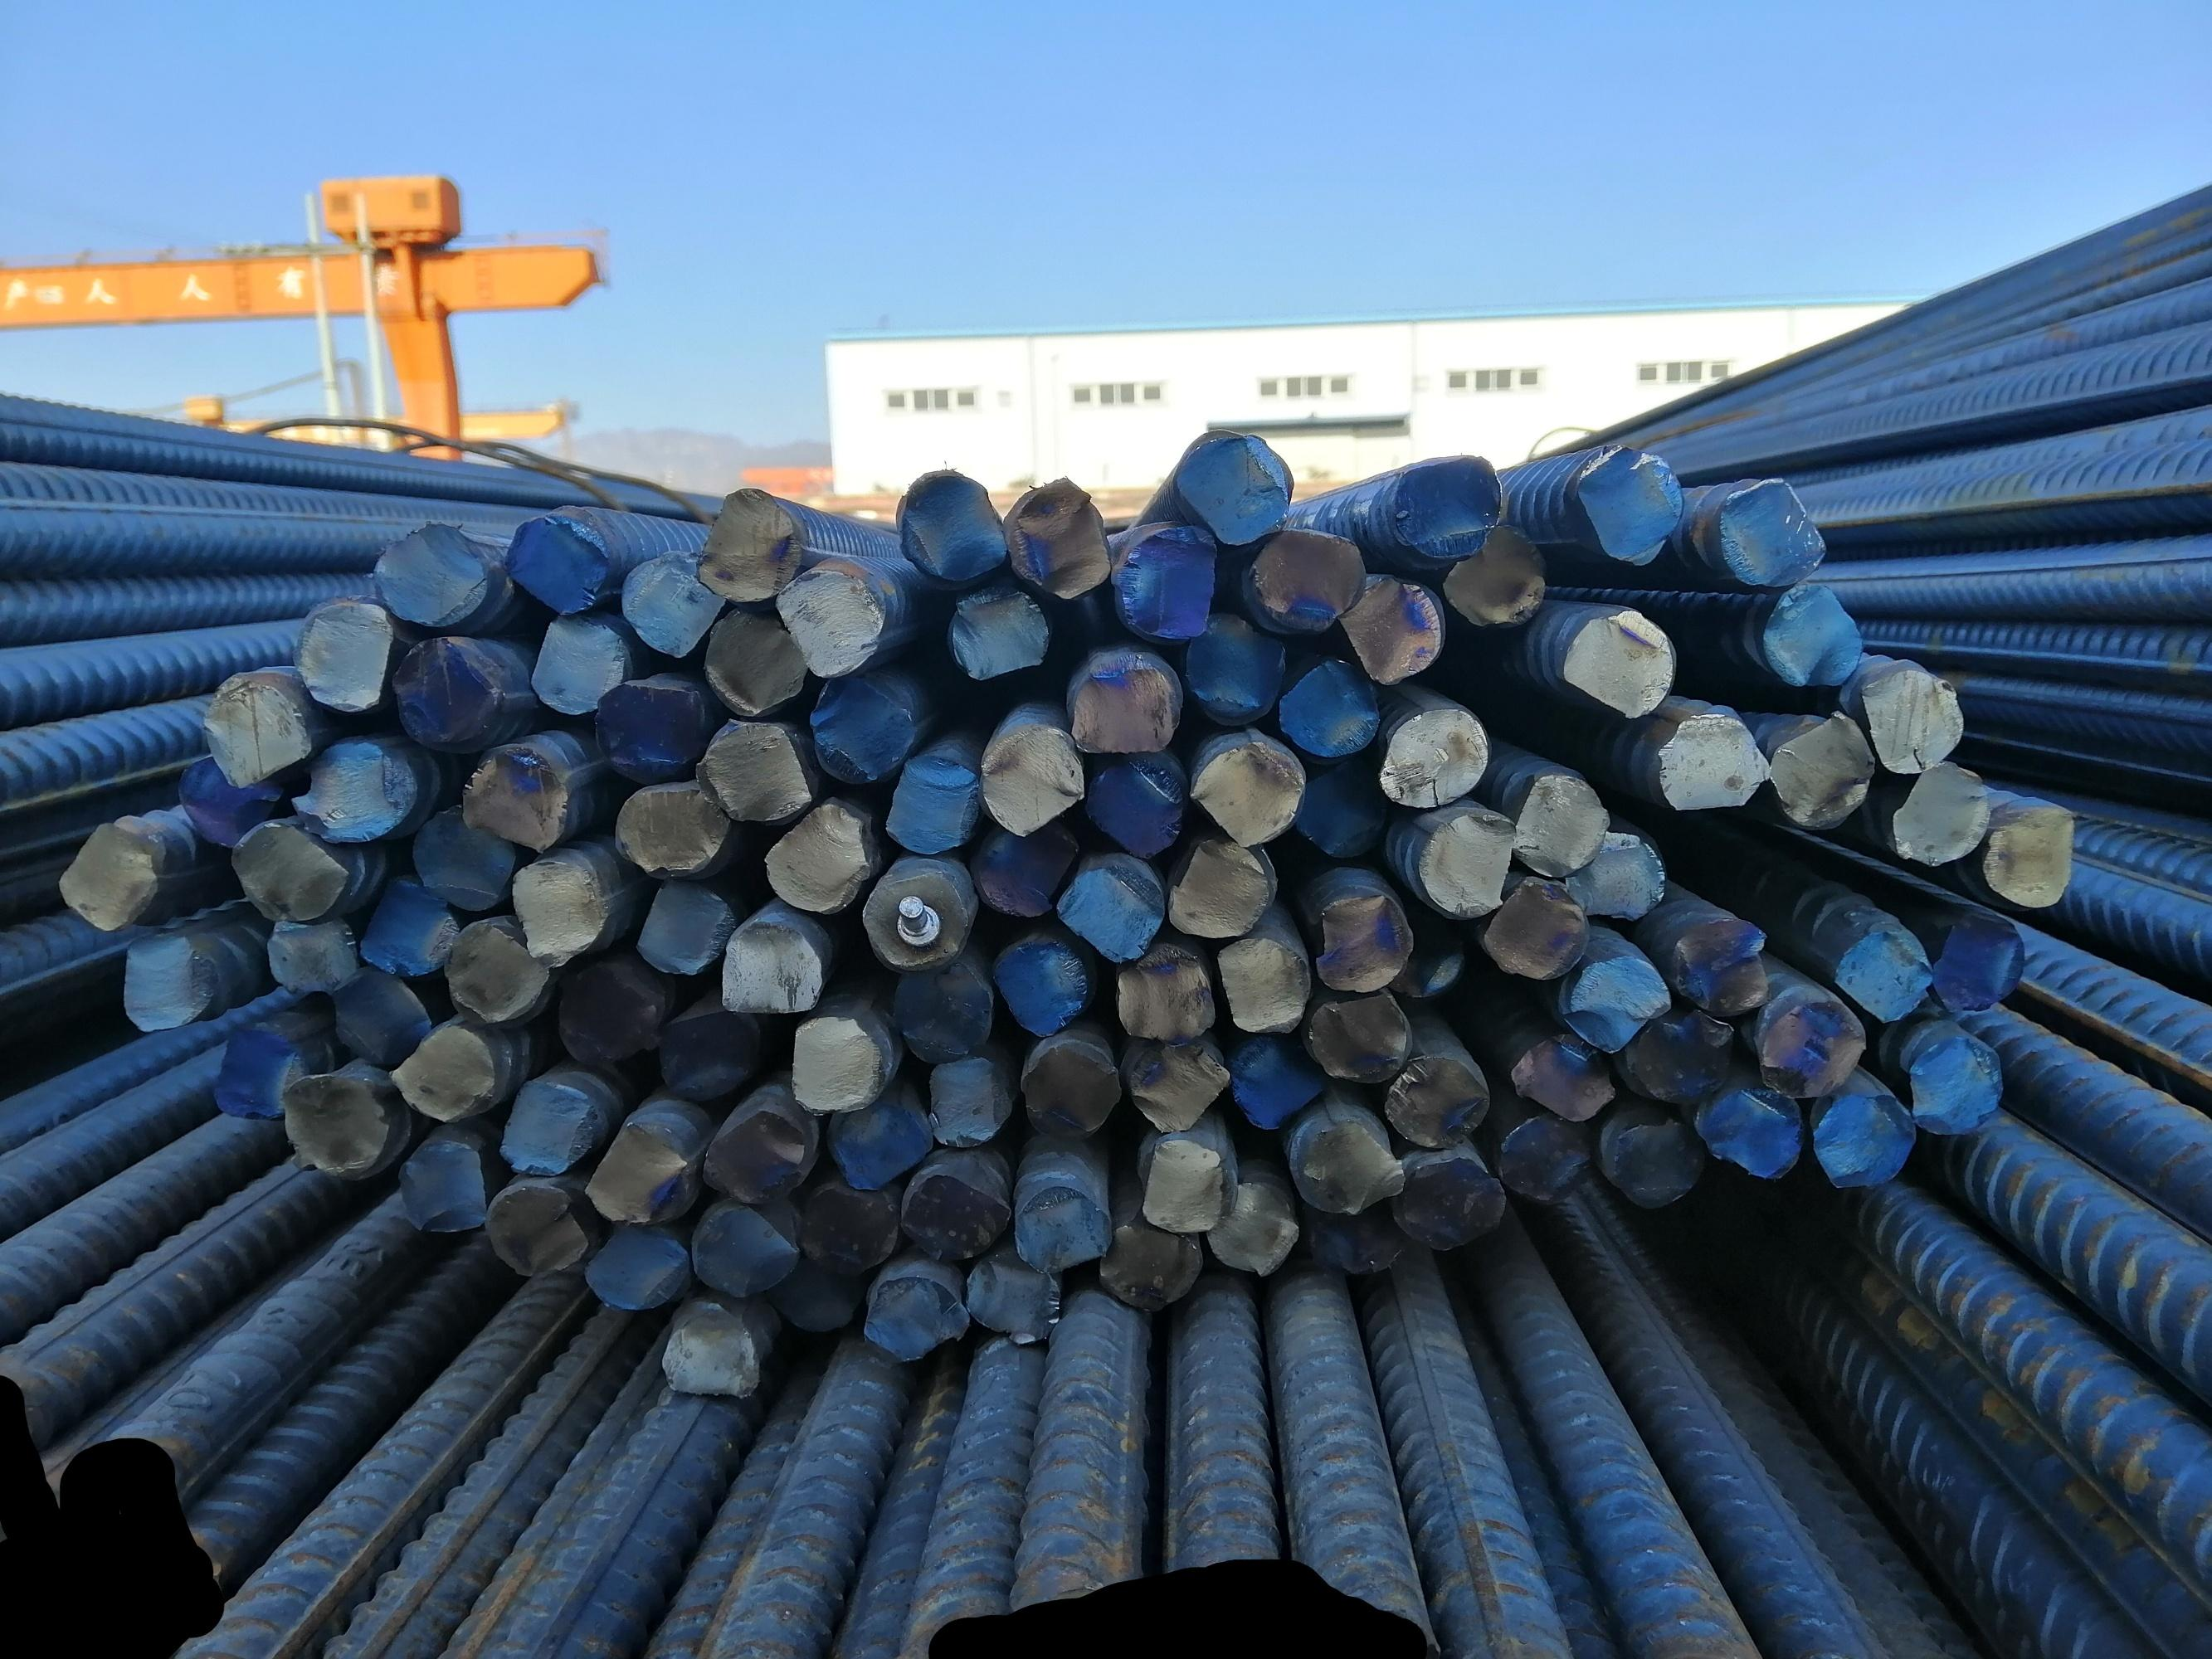bar: (281, 732, 420, 843), (577, 1105, 692, 1234), (1175, 430, 1297, 549), (1715, 467, 1830, 591), (694, 603, 811, 721), (1571, 444, 1686, 565), (1853, 659, 1968, 777), (1002, 476, 1110, 601), (880, 957, 1004, 1065), (52, 816, 164, 932), (1558, 610, 1677, 720), (1245, 521, 1365, 629), (373, 518, 490, 627), (617, 544, 727, 660), (387, 633, 495, 751), (1764, 711, 1872, 829), (286, 1065, 399, 1176), (694, 713, 811, 821), (1180, 612, 1290, 725), (899, 474, 1009, 587), (227, 816, 347, 918), (1082, 744, 1192, 856), (974, 727, 1088, 835), (772, 565, 880, 678), (758, 798, 865, 913), (507, 842, 608, 962), (587, 674, 708, 775), (809, 669, 917, 781), (1435, 519, 1548, 626), (1762, 990, 1869, 1103), (558, 955, 666, 1065), (406, 800, 514, 910), (694, 491, 800, 603), (856, 864, 971, 967), (523, 612, 631, 720), (1114, 528, 1222, 636), (204, 678, 314, 784), (462, 744, 568, 854), (1761, 577, 1867, 687), (580, 1218, 699, 1316), (1396, 451, 1504, 558), (1339, 575, 1445, 683), (1482, 875, 1590, 981), (1700, 1079, 1808, 1185), (654, 1002, 767, 1103), (1391, 1155, 1511, 1249), (321, 957, 427, 1063), (1285, 751, 1391, 857), (443, 917, 547, 1025), (631, 871, 739, 976), (1279, 657, 1388, 762), (1199, 742, 1306, 847), (356, 873, 462, 978), (1381, 702, 1487, 807), (387, 1019, 499, 1119), (1890, 755, 1989, 866), (1933, 899, 2027, 1016), (1511, 775, 1614, 882), (706, 1105, 814, 1206), (1302, 985, 1410, 1086), (1560, 953, 1668, 1054), (1123, 1037, 1232, 1136), (296, 599, 394, 711), (1656, 716, 1769, 812), (1673, 913, 1776, 1018), (1905, 1033, 2008, 1138), (826, 1093, 936, 1190), (615, 784, 729, 878), (120, 932, 223, 1035), (495, 1072, 596, 1176), (1381, 1049, 1487, 1148), (1984, 795, 2074, 910), (1314, 889, 1415, 992), (1102, 1220, 1208, 1317), (1295, 1117, 1403, 1213), (687, 1202, 795, 1298), (988, 936, 1089, 1037), (718, 915, 821, 1014), (500, 516, 603, 615), (659, 1302, 763, 1399), (1070, 662, 1175, 760), (865, 1265, 971, 1361), (490, 1183, 596, 1279), (178, 756, 284, 852), (1110, 945, 1218, 1039), (1510, 1028, 1618, 1122), (1229, 1028, 1327, 1131), (1628, 1004, 1731, 1101), (786, 1019, 887, 1117), (882, 751, 978, 854), (1832, 927, 1935, 1023), (906, 1175, 1014, 1265), (1562, 829, 1670, 920), (1170, 840, 1269, 938), (1815, 1093, 1914, 1190), (1206, 1176, 1300, 1279), (397, 1136, 492, 1239), (1419, 814, 1513, 917), (1062, 861, 1159, 958), (1023, 1037, 1119, 1134), (1215, 934, 1313, 1030), (1011, 1180, 1112, 1272), (795, 1185, 899, 1274), (971, 826, 1077, 913), (959, 1256, 1062, 1345), (947, 594, 1055, 678), (1137, 1138, 1231, 1234), (1605, 1115, 1701, 1209), (209, 1019, 298, 1121), (1307, 1187, 1405, 1277), (924, 1058, 1016, 1152), (1496, 1112, 1591, 1202), (256, 911, 359, 995), (1393, 903, 1469, 1007), (772, 1249, 866, 1333)
